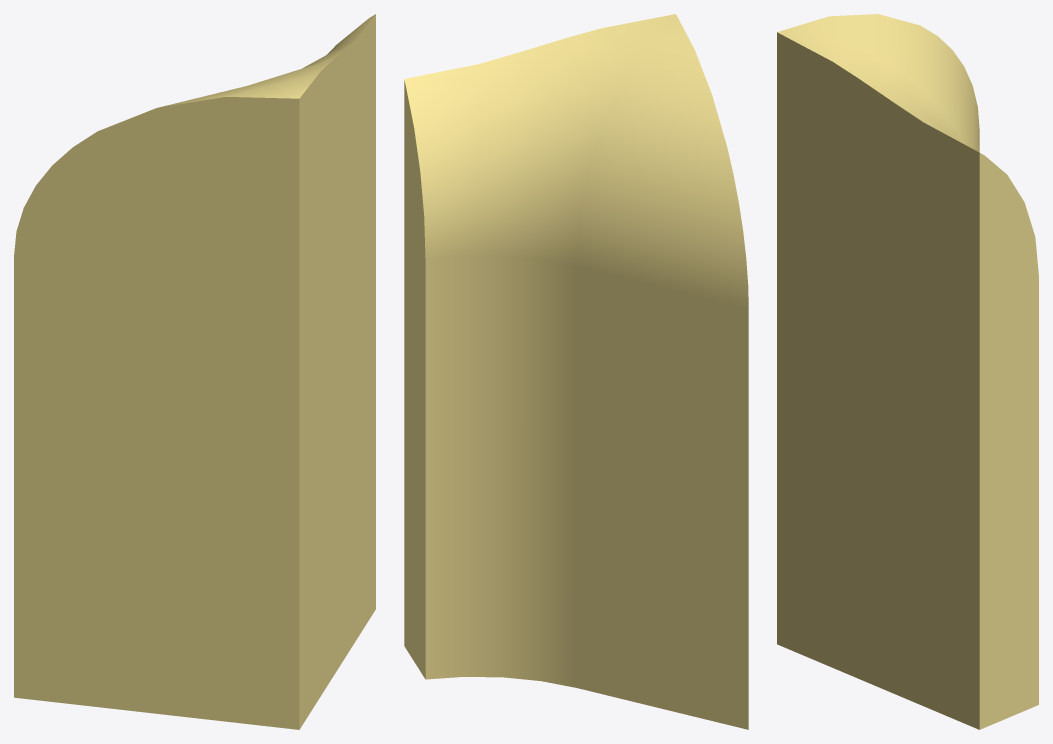
The model's file is Corner_Concave.glb.
3 renders of one model, left to right at view 1: azimuth 30°, elevation 25°; view 2: azimuth 150°, elevation 25°; view 3: azimuth 270°, elevation 25°, orthographic. The views are drawn at different scales.
Visible parts, largest first — view 1: Corner_Concave; view 2: Corner_Concave; view 3: Corner_Concave.
Part boxes in pixels (x1,y1,x2,y2): Corner_Concave: (14,14,375,729); Corner_Concave: (404,14,748,729); Corner_Concave: (777,14,1038,729).
Size of the model in its own units: 0.3 by 0.5 by 0.1939.
